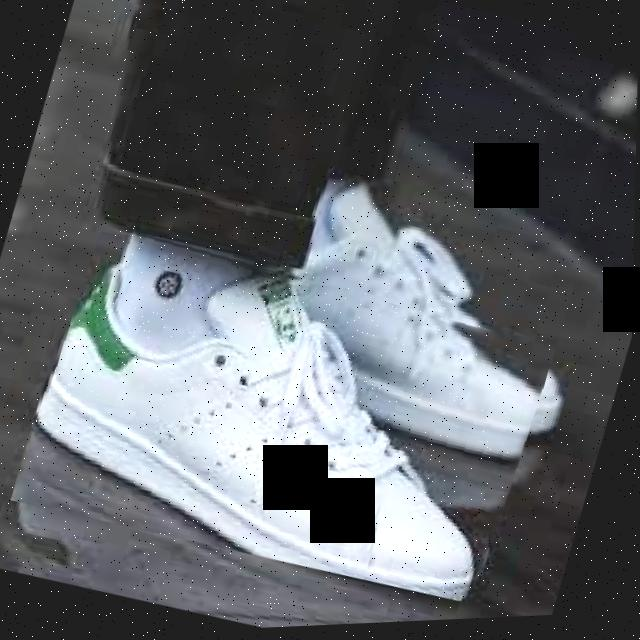shoe: (10, 202, 566, 627)
